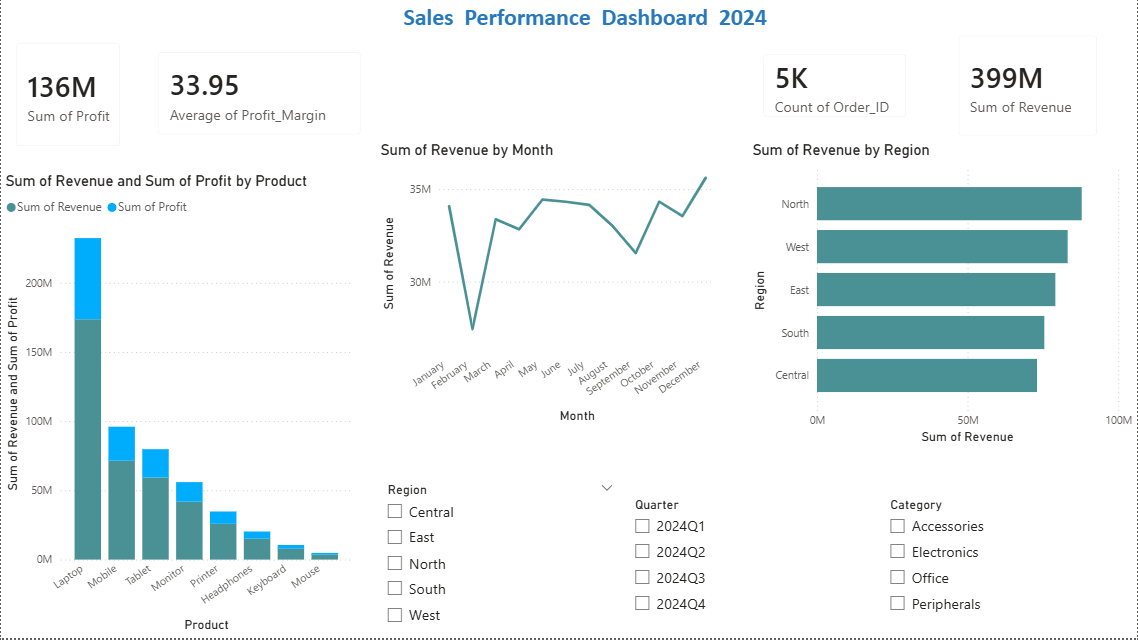

Layout of this report page (visuals, bound fields, positions):
{"tool":"powerbi","page":{"name":"Page 1","canvas":[1280,720],"ordinal":0},"visuals":[{"type":"lineChart","fields":{"Category":["cleaned_sales_data.Month.Variation.Date Hierarchy.Month"],"Y":["Sum(cleaned_sales_data.Revenue)"]},"box":[422.5,161.2,386.2,345],"z":4},{"type":"barChart","fields":{"Category":["cleaned_sales_data.Region"],"Y":["Sum(cleaned_sales_data.Revenue)"]},"box":[830,161.2,437.5,345],"z":5},{"type":"columnChart","fields":{"Category":["cleaned_sales_data.Product"],"Y":["Sum(cleaned_sales_data.Revenue)","Sum(cleaned_sales_data.Profit)"]},"box":[0,196.2,400,522.5],"z":6},{"type":"slicer","fields":{"Values":["cleaned_sales_data.Region"]},"box":[422.5,540,278.8,178.8],"z":7},{"type":"slicer","fields":{"Values":["cleaned_sales_data.Quarter"]},"box":[701.2,556.2,278.8,152.5],"z":8},{"type":"slicer","fields":{"Values":["cleaned_sales_data.Category"]},"box":[988.8,556.2,278.8,150],"z":9},{"type":"textbox","box":[400,0,507.5,53.8],"z":12},{"type":"cardVisual","fields":{"Data":["Sum(cleaned_sales_data.Revenue)"]},"box":[1048.8,43.8,190,102.5],"z":13},{"type":"cardVisual","fields":{"Data":["Sum(cleaned_sales_data.Profit)"]},"box":[0,33.8,151.2,150],"z":14},{"type":"cardVisual","fields":{"Data":["Avg(cleaned_sales_data.Profit_Margin)"]},"box":[160,43.8,262.5,127.5],"z":15},{"type":"cardVisual","fields":{"Data":["CountNonNull(cleaned_sales_data.Order_ID)"]},"box":[853.8,41.2,195,105],"z":16}]}

Visuals, with their boxes in screenshot pixels (x1, y1, x2, y2), scaled from the page's 1280x720 canvas onto the 1138x640 screenshot:
lineChart - cleaned_sales_data.Month.Variation.Date Hierarchy.Month x Sum(cleaned_sales_data.Revenue): bbox(376, 143, 719, 450)
barChart - cleaned_sales_data.Region x Sum(cleaned_sales_data.Revenue): bbox(738, 143, 1127, 450)
columnChart - cleaned_sales_data.Product x Sum(cleaned_sales_data.Revenue): bbox(0, 174, 356, 639)
slicer - cleaned_sales_data.Region: bbox(376, 480, 623, 639)
slicer - cleaned_sales_data.Quarter: bbox(623, 494, 871, 630)
slicer - cleaned_sales_data.Category: bbox(879, 494, 1127, 628)
textbox: bbox(356, 0, 807, 48)
cardVisual - Sum(cleaned_sales_data.Revenue): bbox(932, 39, 1101, 130)
cardVisual - Sum(cleaned_sales_data.Profit): bbox(0, 30, 134, 163)
cardVisual - Avg(cleaned_sales_data.Profit_Margin): bbox(142, 39, 376, 152)
cardVisual - CountNonNull(cleaned_sales_data.Order_ID): bbox(759, 37, 932, 130)
